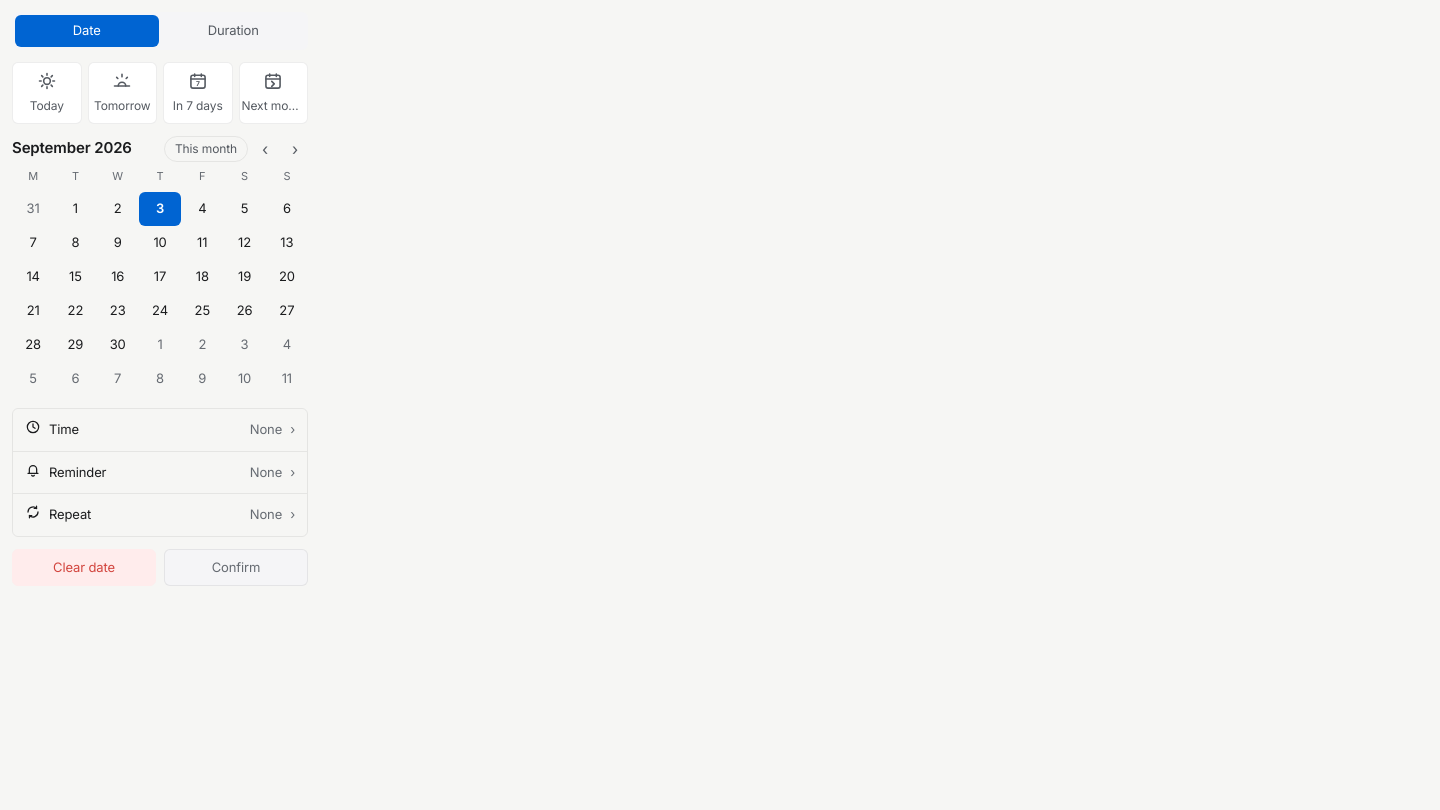
Test: the three rows open in place (§4.1) › keeps the calendar while 알림 is open
Click the button "Reminder None ›": [78, 472] box x1=13 y1=452 x2=307 y2=494
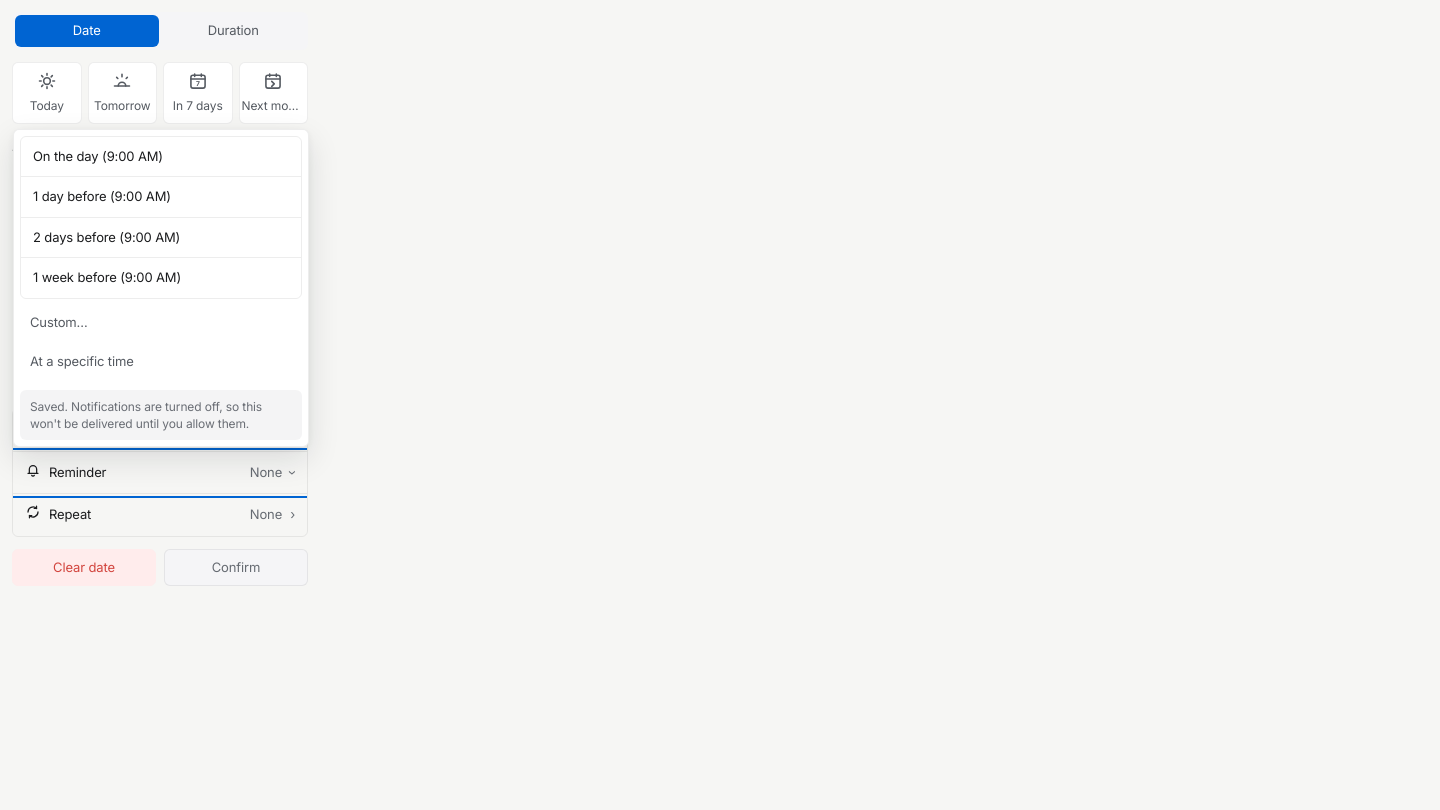
Expected: the element that starts with "September 2026" is shown, x1=12 y1=136 x2=308 y2=396
Result: the checkbox labelled "On the day (9:00 AM)" is shown at x1=21 y1=136 x2=301 y2=177
